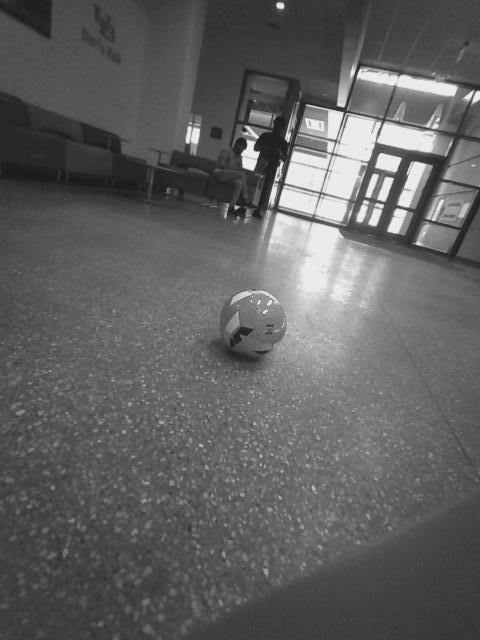ball: (103, 168, 130, 193)
